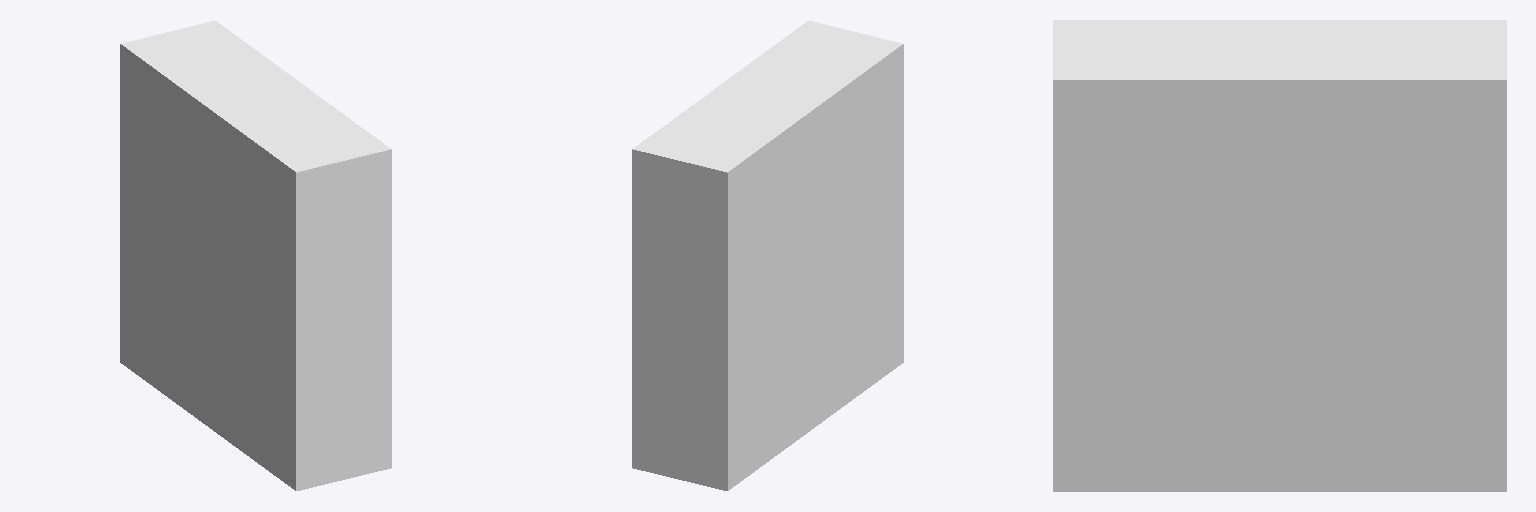
robot.urdf — box_noTexture.urdf:
<?xml version="0.0" ?>
<robot name="box_noTexture.urdf">
  <link name="baseLink">
    <contact>
      <friction_anchor/>
      <lateral_friction value="0.5"/>
      <contact_cfm value="0.0"/>
      <contact_erp value="1.0"/>
    </contact>
    <inertial>
       <origin rpy="0 0 0" xyz="0.0 0.0 0.0"/>
       <mass value=".411"/>
       <inertia ixx="1e-3" ixy="0" ixz="0" iyy="1e-3" iyz="0" izz="1e-3"/>
    </inertial>
    <visual>
      <geometry>
        <mesh filename="box_noTexture.obj" scale="0.6 0.6 0.6"/>
      </geometry>
      <material name="white">
        <color rgba="1. 1. 1. 1."/>
      </material>
    </visual>
    <collision>
      <geometry>
    	 	<mesh filename="box_noTexture.obj" scale="0.6 0.6 0.6"/>
      </geometry>
    </collision>
  </link>
</robot>

--- Facts derived from the render (not from the file) ---
3 views of the same robot in one strip: view 1: azimuth 30°, elevation 25°; view 2: azimuth 150°, elevation 25°; view 3: azimuth 270°, elevation 25° (orthographic).
Model box_noTexture.urdf with 1 links and 0 joints (none), rooted at baseLink, posed all joints at 0.
Visible links, largest first — view 1: baseLink; view 2: baseLink; view 3: baseLink.
Boxes of the visible links, box(x1,y1,x2,y2) form: baseLink: box(120, 21, 391, 490); baseLink: box(632, 21, 903, 490); baseLink: box(1053, 20, 1506, 491).
Bounding box of the posed robot: 0.03 × 0.096 × 0.096 m (x, y, z).
Meshes: 1 distinct files referenced, 1 mesh visuals loaded (1 OBJ).